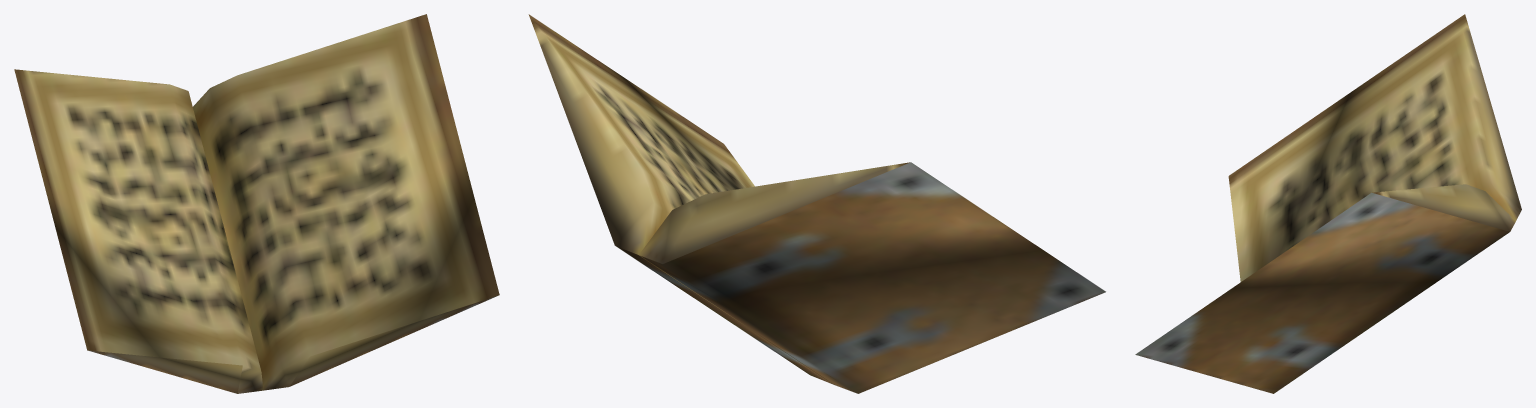
The model's file is Book2.fbx.
3 renders of one model, left to right at view 1: azimuth 30°, elevation 25°; view 2: azimuth 150°, elevation 25°; view 3: azimuth 270°, elevation 25°, orthographic. The views are drawn at different scales.
Parts seen in each view (by area): view 1: U3DMesh; view 2: U3DMesh; view 3: U3DMesh.
Boxes of the visible parts, bbox=[...] form: U3DMesh: bbox=[14, 14, 499, 393]; U3DMesh: bbox=[528, 14, 1105, 393]; U3DMesh: bbox=[1135, 14, 1521, 393].
Size of the model in its own units: 1.62 by 1.1 by 1.32.
